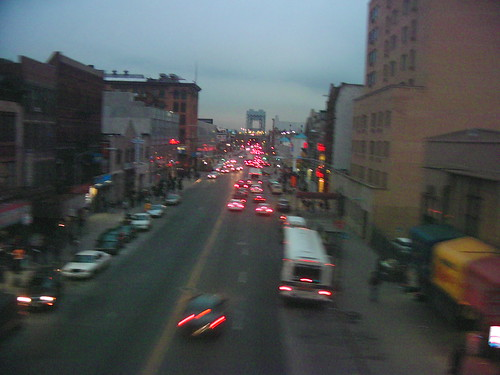building: (340, 1, 500, 226), (1, 64, 108, 277), (414, 132, 500, 366), (151, 76, 212, 183), (104, 119, 151, 204), (147, 106, 179, 195)
sky: (1, 1, 364, 89)
